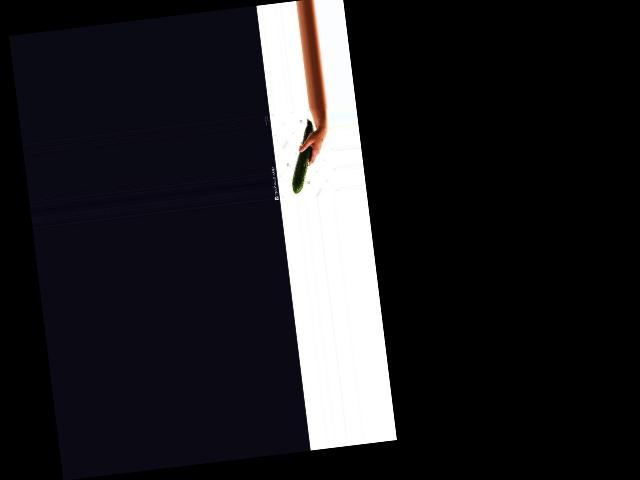cucumber: (284, 117, 320, 194)
